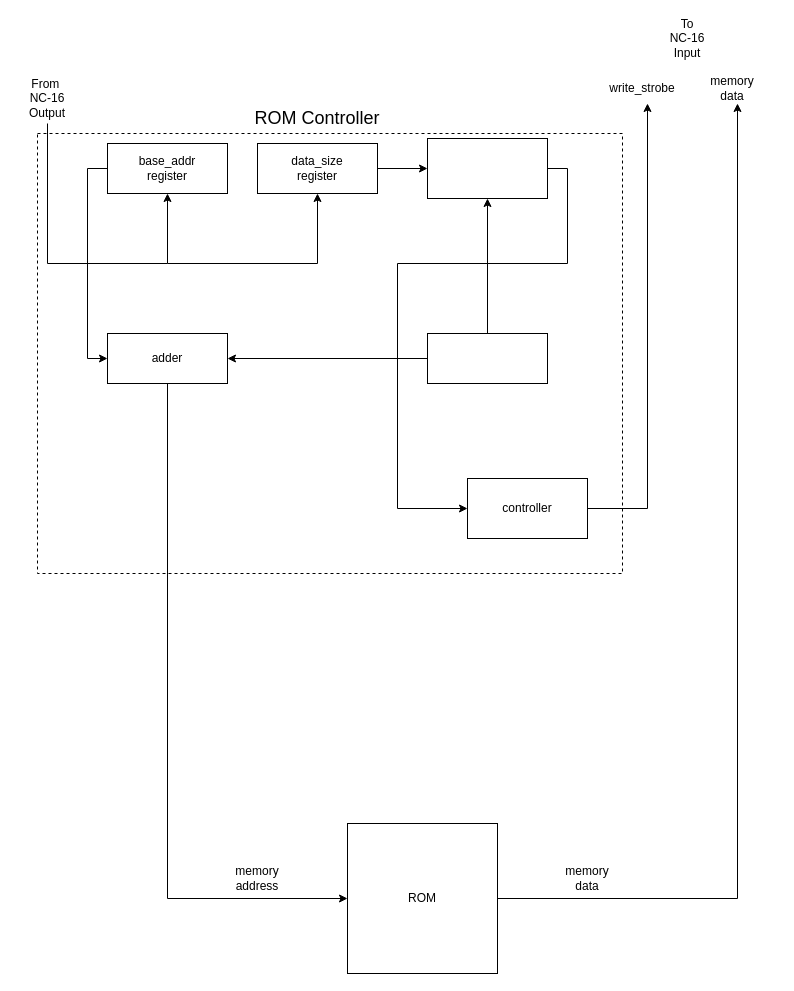
Some shapes in this 794 by 991 pixel diagram are drawn without their labels. The box of each missing label's shape, as (x1, y1, x2, y2) in pixels:
comparator: (426, 138, 548, 198)
counter: (426, 332, 548, 384)
